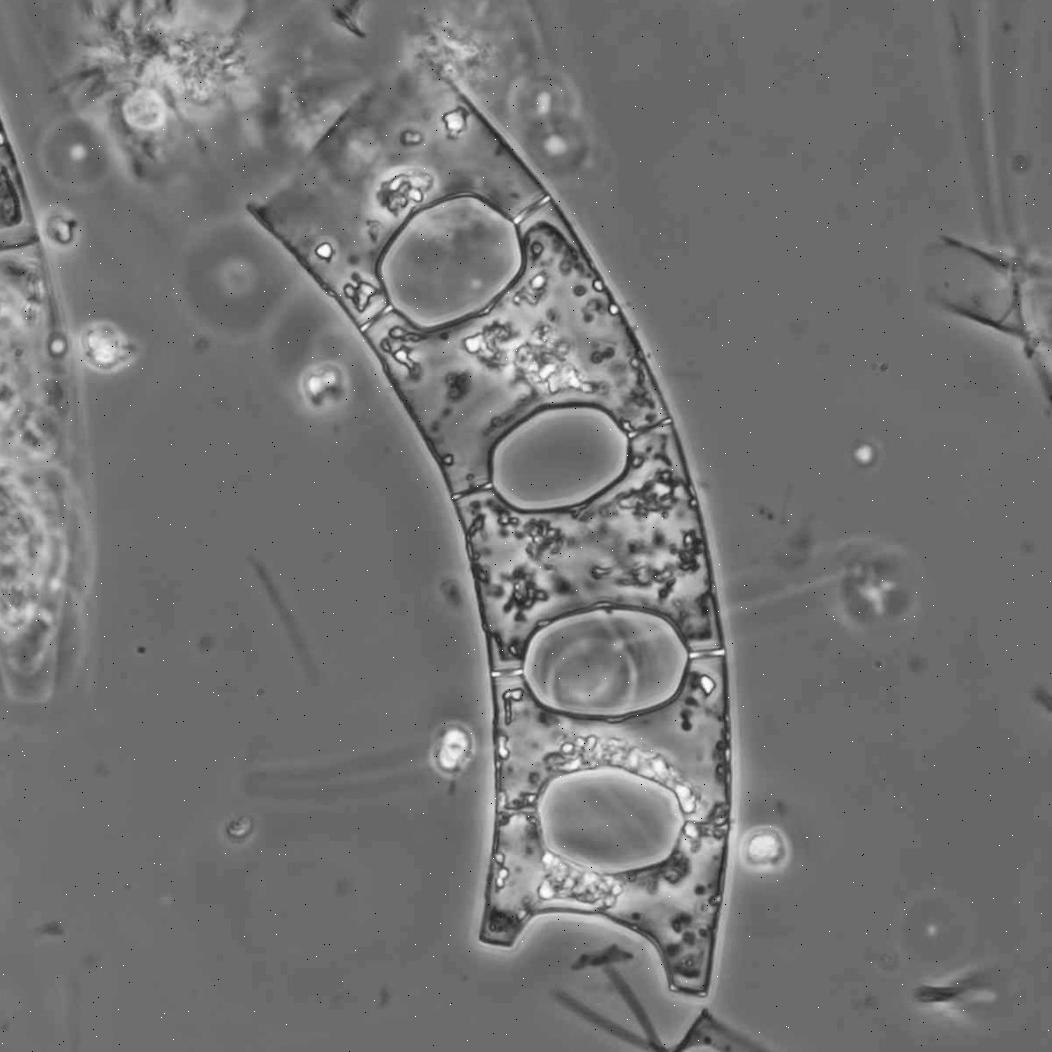eucampia_zodiacus: (250, 66, 734, 997)
